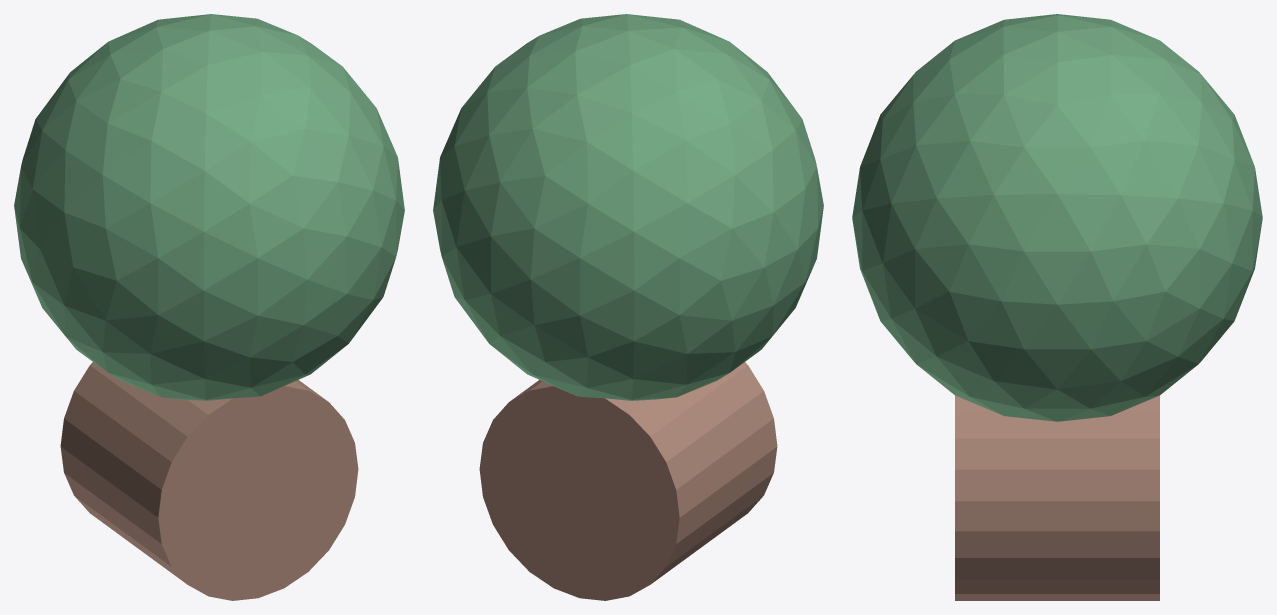
The model's file is plant.glb.
The picture shows the model from 3 angles, left to right: view 1: azimuth 30°, elevation 25°; view 2: azimuth 150°, elevation 25°; view 3: azimuth 270°, elevation 25°; orthographic projection. The views are drawn at different scales.
Parts seen in each view (by area): view 1: world; view 2: world; view 3: world.
Part boxes in pixels (bbox=[...]): world: bbox=[14, 14, 404, 600]; world: bbox=[433, 14, 823, 600]; world: bbox=[852, 14, 1262, 600].
Size of the model in its own units: 0.44 by 0.66 by 0.44.
